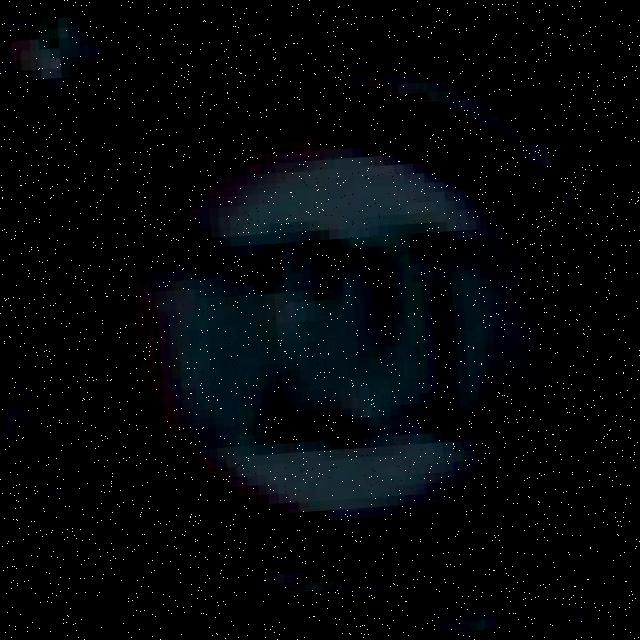Ograniczenie predkosci do 120: (59, 61, 602, 600)
